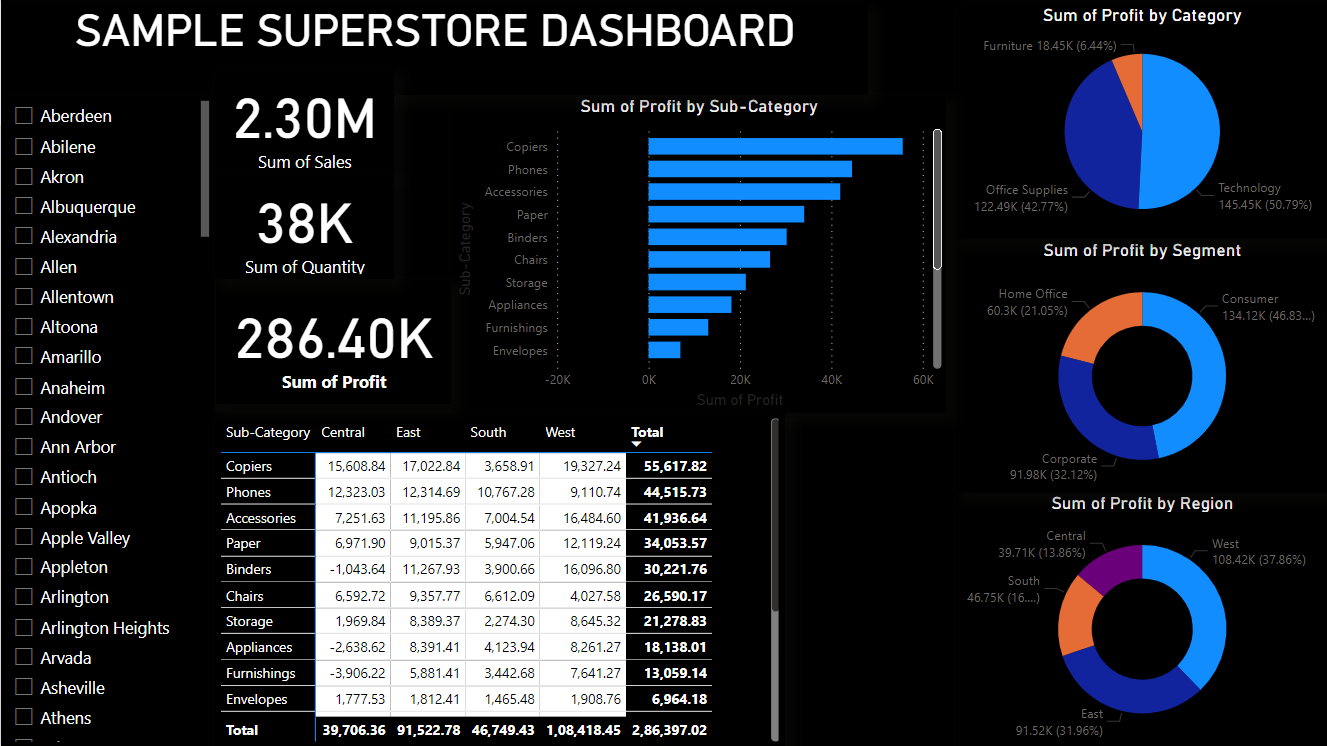

Layout of this report page (visuals, bound fields, positions):
{"tool":"powerbi","page":{"name":"Page 1","canvas":[1280,720],"ordinal":0},"visuals":[{"type":"donutChart","fields":{"Y":["Sum(SampleSuperstore.Profit)"],"Category":["SampleSuperstore.Region"]},"box":[921.7,474.3,358.2,245.7],"z":0},{"type":"donutChart","fields":{"Y":["Sum(SampleSuperstore.Profit)"],"Category":["SampleSuperstore.Segment"]},"box":[921.7,229.8,358.2,244.5],"z":1000},{"type":"pieChart","fields":{"Y":["Sum(SampleSuperstore.Profit)"],"Category":["SampleSuperstore.Category"]},"box":[921.7,3.7,358.2,226.1],"z":2000},{"type":"barChart","fields":{"Category":["SampleSuperstore.Sub-Category"],"Y":["Sum(SampleSuperstore.Profit)"]},"box":[434.2,91.7,477.6,306.3],"z":3000},{"type":"textbox","title":"SAMPLE SUPERSTORE DASHBOARD","box":[0,3.6,835.8,88],"z":4000},{"type":"slicer","fields":{"Values":["SampleSuperstore.City"]},"box":[0,91.7,206.2,628.3],"z":5000},{"type":"pivotTable","fields":{"Rows":["SampleSuperstore.Sub-Category"],"Columns":["SampleSuperstore.Region"],"Values":["Sum(SampleSuperstore.Profit)"]},"box":[206.2,398,549.9,322],"z":5001},{"type":"card","fields":{"Values":["Sum(SampleSuperstore.Sales)"]},"box":[206.2,66.3,172.5,101.3],"z":5002},{"type":"card","fields":{"Values":["Sum(SampleSuperstore.Profit)"]},"box":[207.4,268.9,226.7,120.6],"z":5003},{"type":"card","fields":{"Values":["Sum(SampleSuperstore.Quantity)"]},"box":[206.2,167.6,172.5,101.3],"z":5004}]}

Visuals, with their boxes in screenshot pixels (x1, y1, x2, y2), scaled from the page's 1280x720 canvas onto the 1327x746 screenshot:
donutChart - Sum(SampleSuperstore.Profit) x SampleSuperstore.Region: x1=956 y1=491 x2=1326 y2=745
donutChart - Sum(SampleSuperstore.Profit) x SampleSuperstore.Segment: x1=956 y1=238 x2=1326 y2=491
pieChart - Sum(SampleSuperstore.Profit) x SampleSuperstore.Category: x1=956 y1=4 x2=1326 y2=238
barChart - SampleSuperstore.Sub-Category x Sum(SampleSuperstore.Profit): x1=450 y1=95 x2=945 y2=412
"SAMPLE SUPERSTORE DASHBOARD" textbox: x1=0 y1=4 x2=866 y2=95
slicer - SampleSuperstore.City: x1=0 y1=95 x2=214 y2=745
pivotTable - SampleSuperstore.Sub-Category x SampleSuperstore.Region: x1=214 y1=412 x2=784 y2=745
card - Sum(SampleSuperstore.Sales): x1=214 y1=69 x2=393 y2=174
card - Sum(SampleSuperstore.Profit): x1=215 y1=279 x2=450 y2=404
card - Sum(SampleSuperstore.Quantity): x1=214 y1=174 x2=393 y2=279
